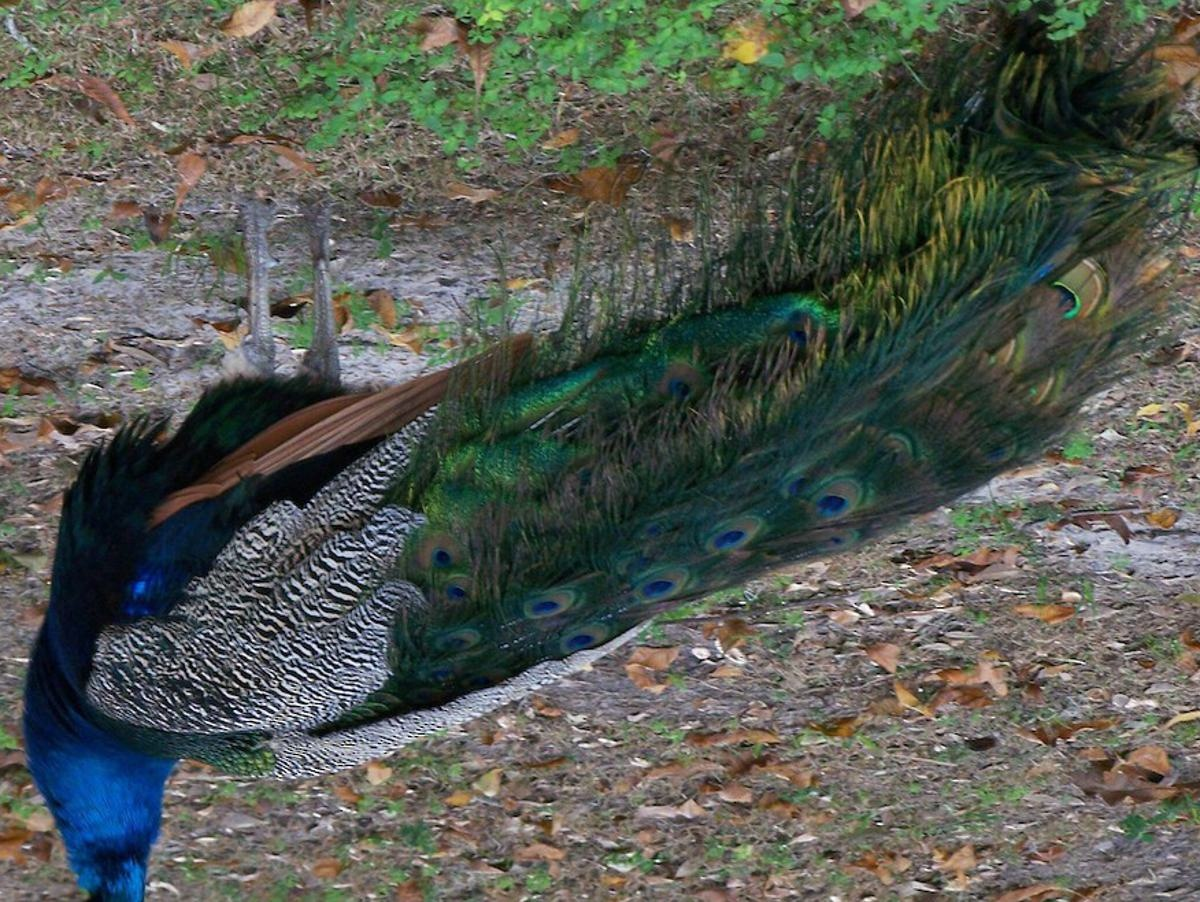peacock: (1, 112, 1070, 902)
